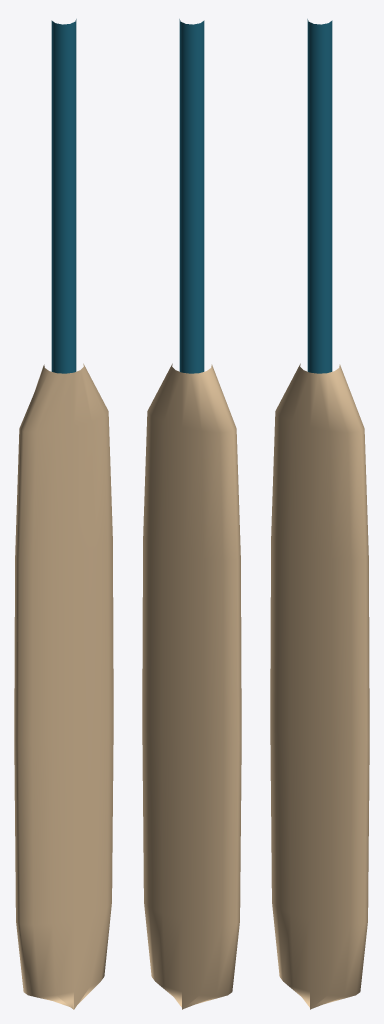
The model's file is bat_club_edge_01_v1.glb.
3 renders of one model, left to right at view 1: azimuth 30°, elevation 25°; view 2: azimuth 150°, elevation 25°; view 3: azimuth 330°, elevation 25°, orthographic.
Parts seen in each view (by area): view 1: Bat_Blade, Bat_Handle; view 2: Bat_Blade, Bat_Handle; view 3: Bat_Blade, Bat_Handle.
Boxes of the visible parts, <box> form: Bat_Blade: <box>14,363,113,1009</box>; Bat_Handle: <box>51,19,76,373</box>; Bat_Blade: <box>142,363,241,1009</box>; Bat_Handle: <box>179,19,204,373</box>; Bat_Blade: <box>270,363,369,1009</box>; Bat_Handle: <box>307,19,332,373</box>.
Size of the model in its own units: 0.1092 by 1.08 by 0.04.
